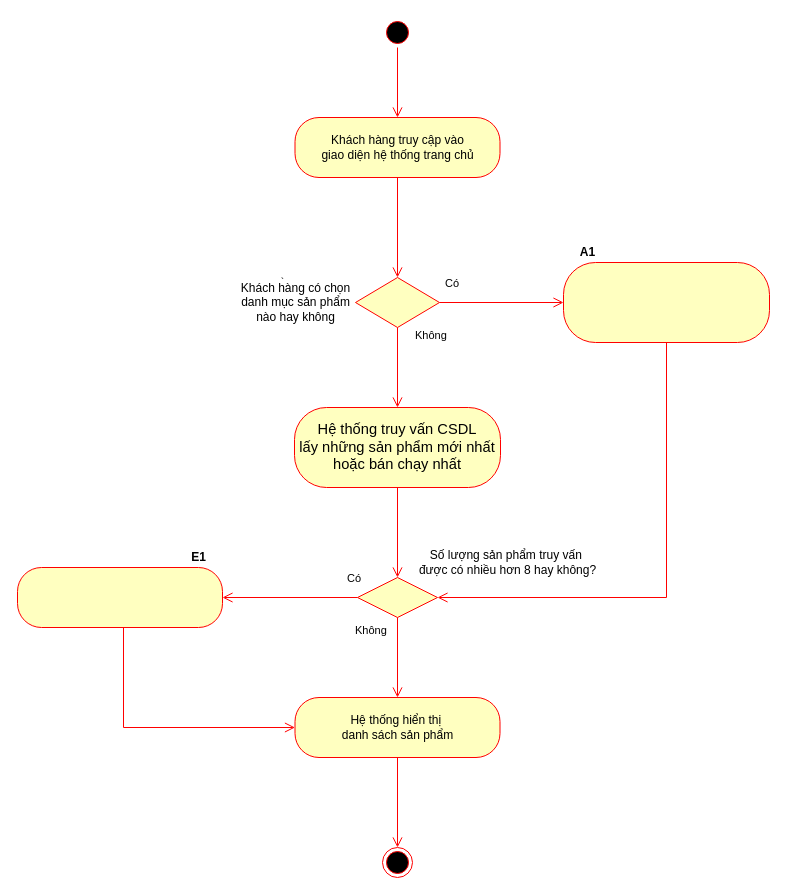
The diagram is 787 pixels wide and 895 high, and some of its shapes have lost their labels. Here are the shapes that lost their labels. From the top down, the box of each, then its label:
(562, 262, 770, 342): Hệ thống truy vấn CSDL lấy những sản phẩm có cùng mã danh mục sản phẩm
(16, 566, 222, 628): Thực hiện phân trang sản phẩm mỗi trang tối đa 8 sản phẩm
